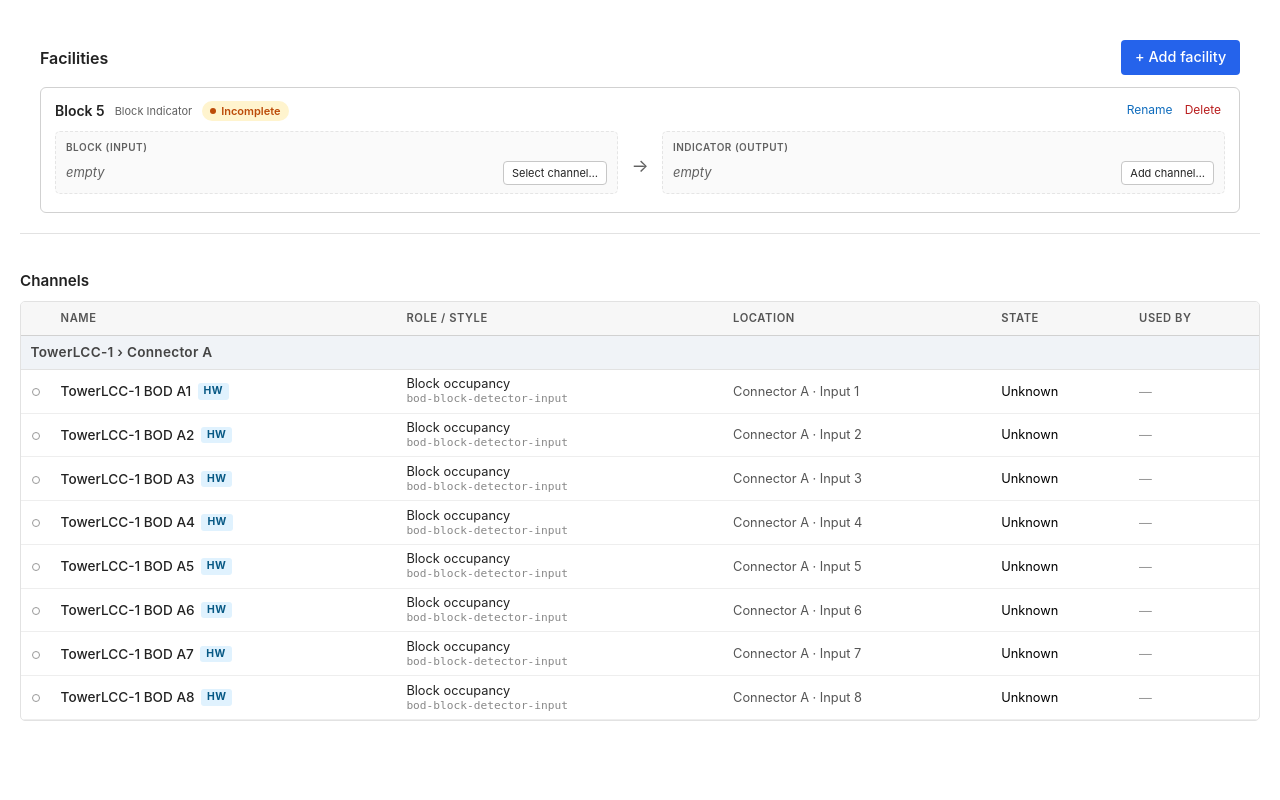
Scenario: Spec 018 / S4 — Select-channel user journey (integration) › AC(b)–(d): Select channel → orchestrator attach lights up the slot + Channels-panel cell + dirtyBreakdown.facilities === 1
This screenshot has width=1280, height=800.
# (b) Click Select channel on the input slot.
Click the button with test id "select-channel-button". click: click(555, 173)
box: [503,161,607,185]
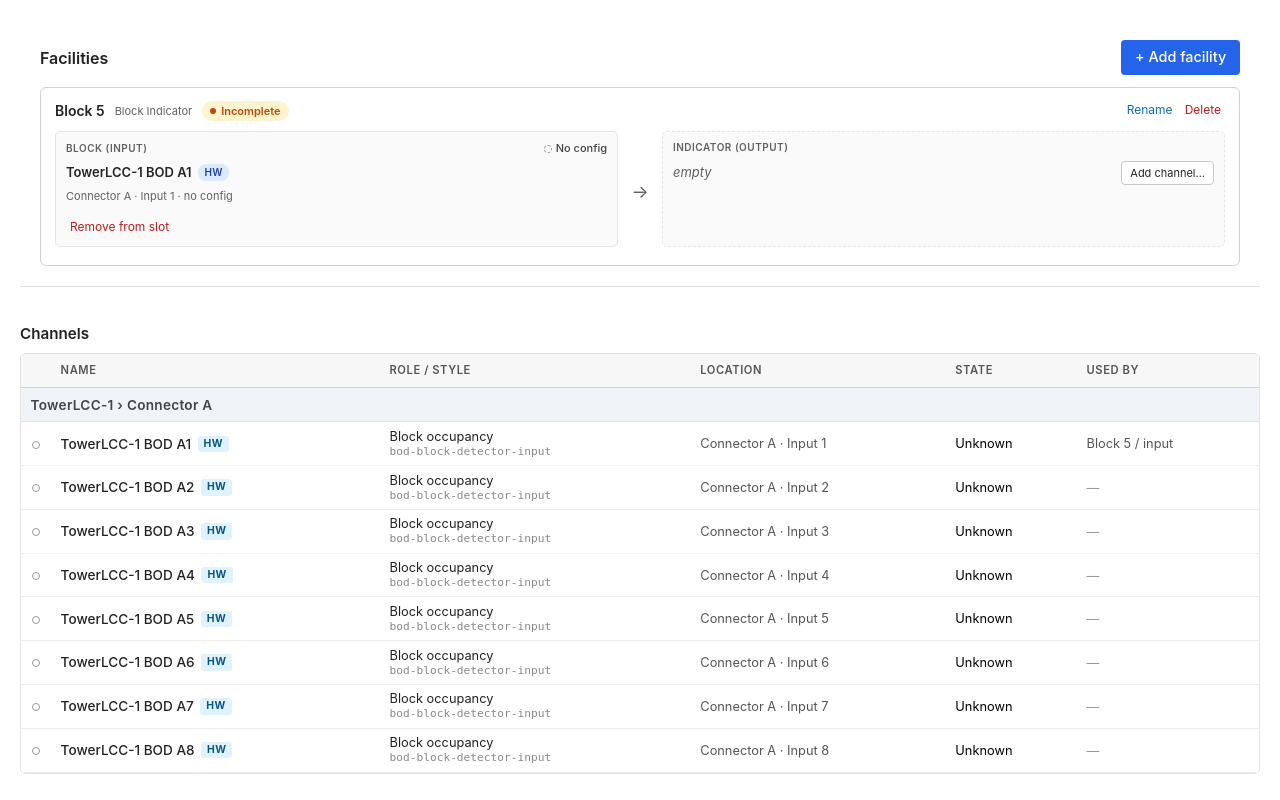
Expected: the cell "—" in the row of "Connector A · Input 2" is shown, [1086,480,1099,495]
Expected: the cell "Block 5 / input" is shown, [1077,422,1259,466]
Expected: the text with test id "slot-channel-name" reads "TowerLCC-1 BOD A1", [66,164,192,180]
